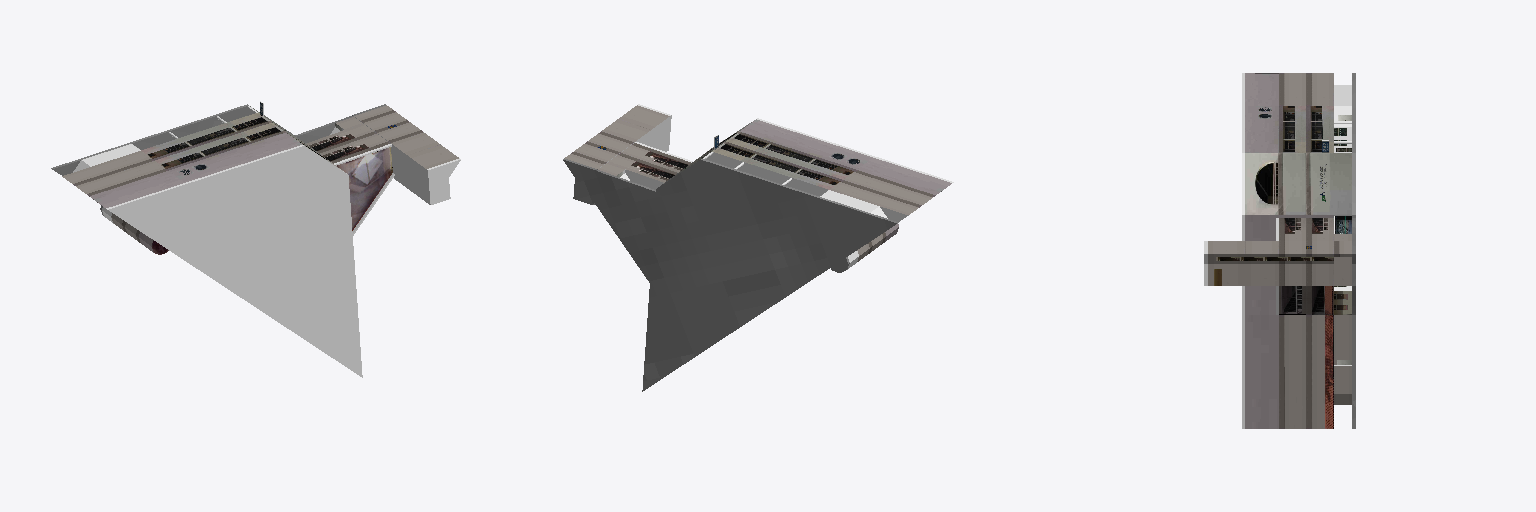
3 views of the same model, side by side, from view 1: azimuth 30°, elevation 25°; view 2: azimuth 150°, elevation 25°; view 3: azimuth 270°, elevation 25° (orthographic).
Visible parts, largest first — view 1: polygon.813; view 2: polygon.813; view 3: polygon.813.
Part boxes in pixels (x1,y1,x2,y2): polygon.813: (51,101,460,377); polygon.813: (563,104,953,391); polygon.813: (1204,73,1355,428).
Bounding box in the file's own units: 59.58 × 44.1 × 23.35.
Materials: 1 (1 with a texture image).